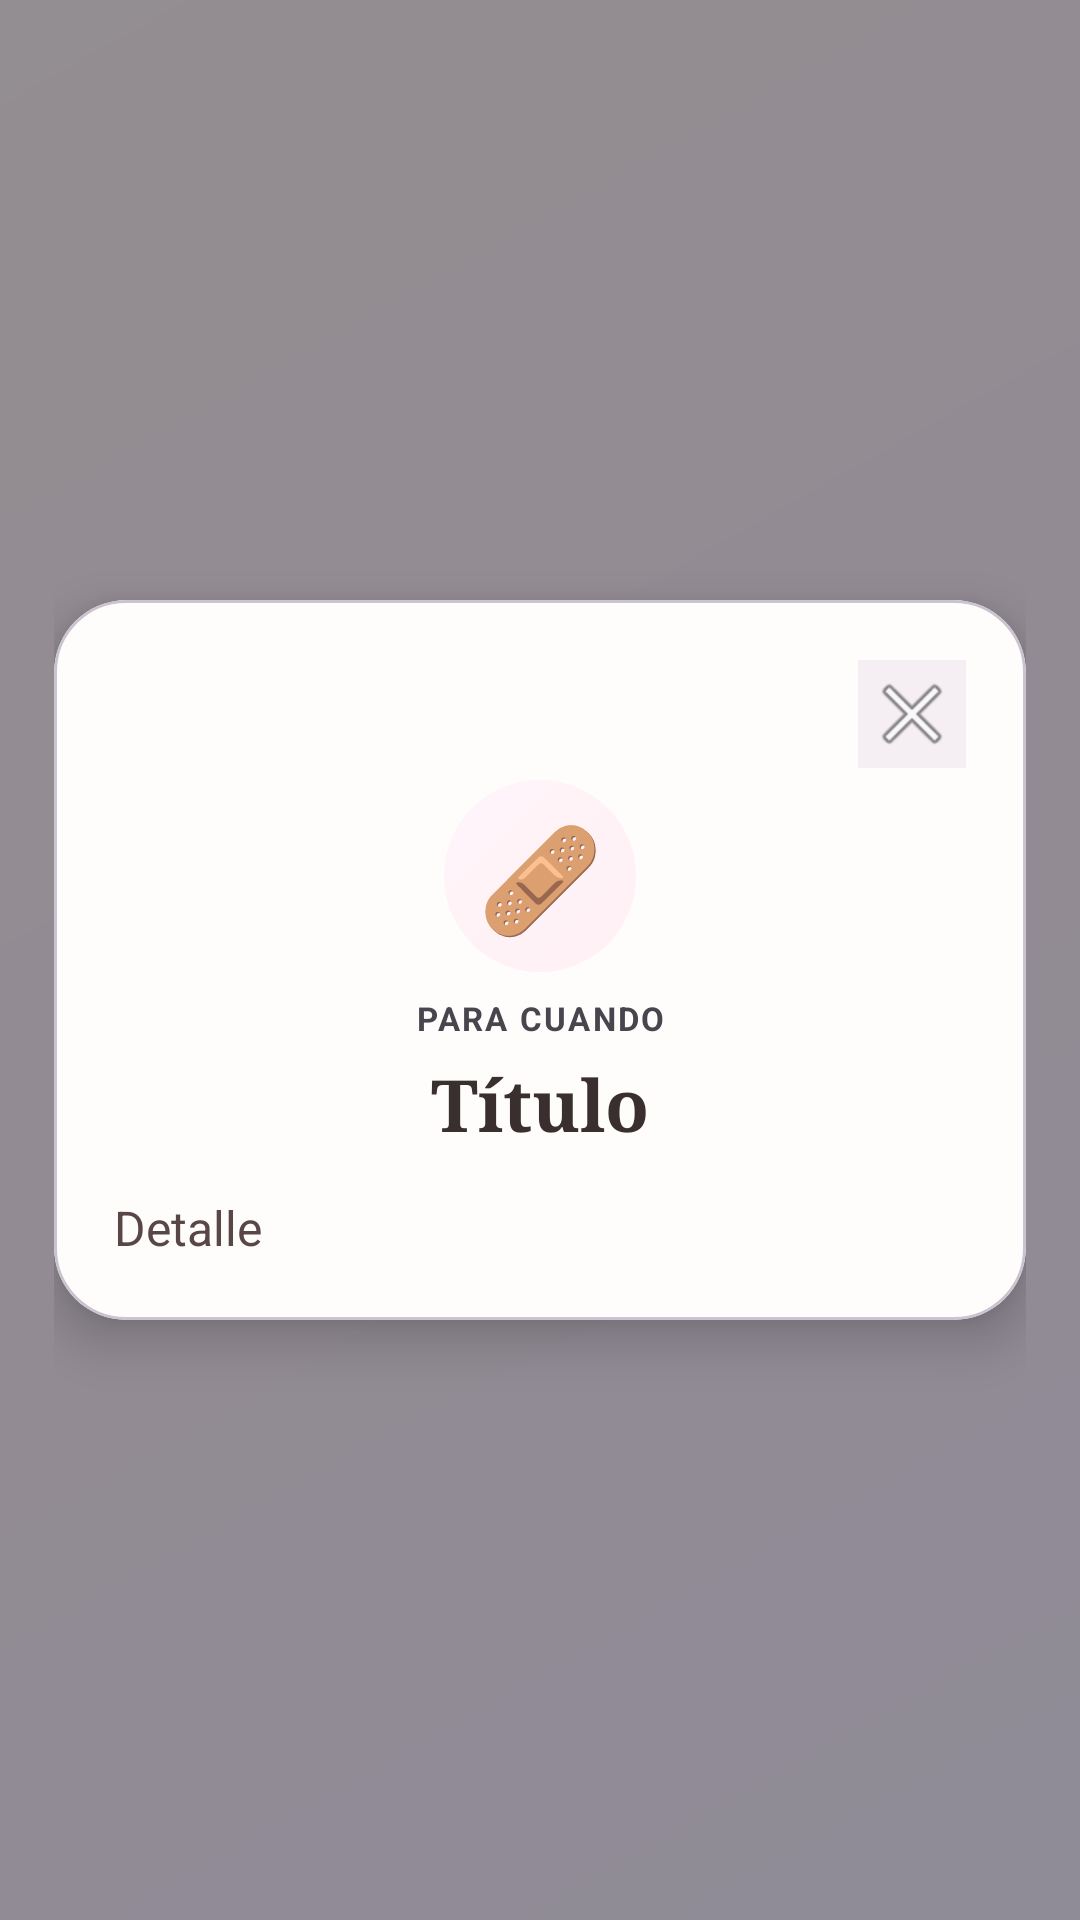

Named icons in this screenshot (1080w x 1920h) and their centers, [x,y]:
Cerrar: [912,714]
